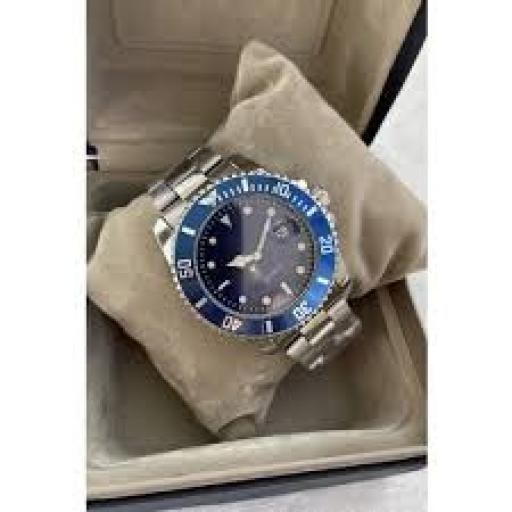KolSaati: (131, 128, 367, 390)
